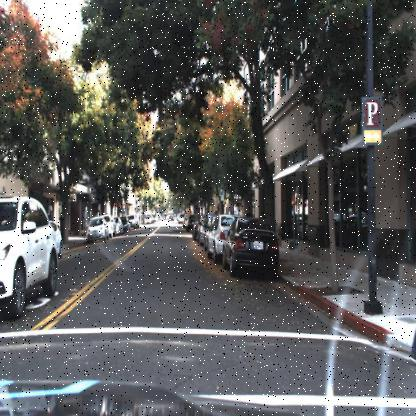car: (0, 191, 60, 316), (220, 214, 282, 283), (203, 212, 237, 263), (206, 212, 228, 262), (83, 212, 109, 245), (52, 220, 67, 261)
